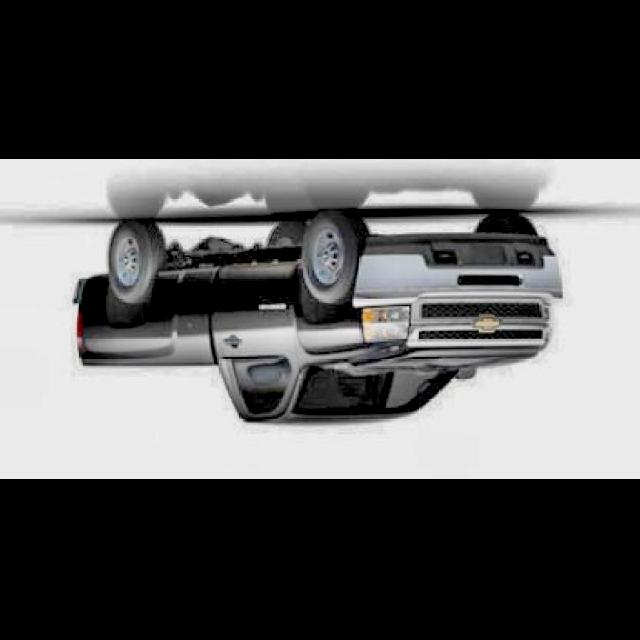black: (104, 236, 563, 431)
